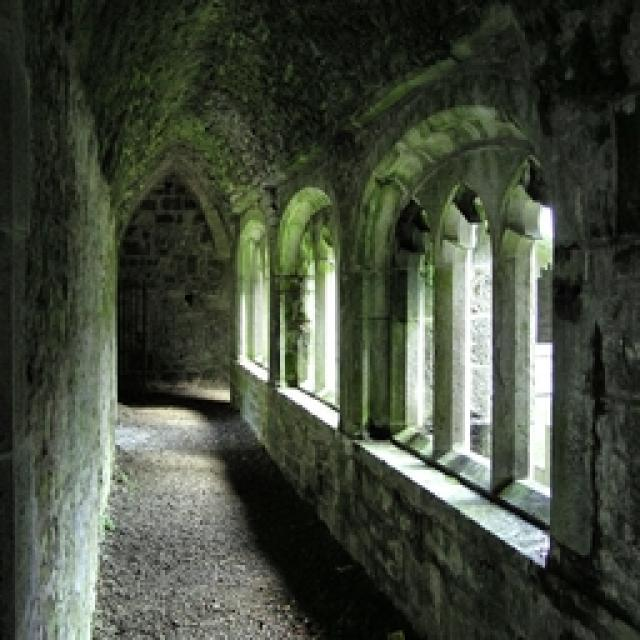Abbey: (77, 42, 640, 576)
